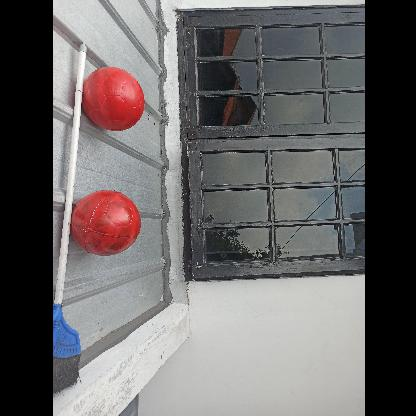red_ball: (72, 190, 140, 256), (82, 66, 146, 130)
